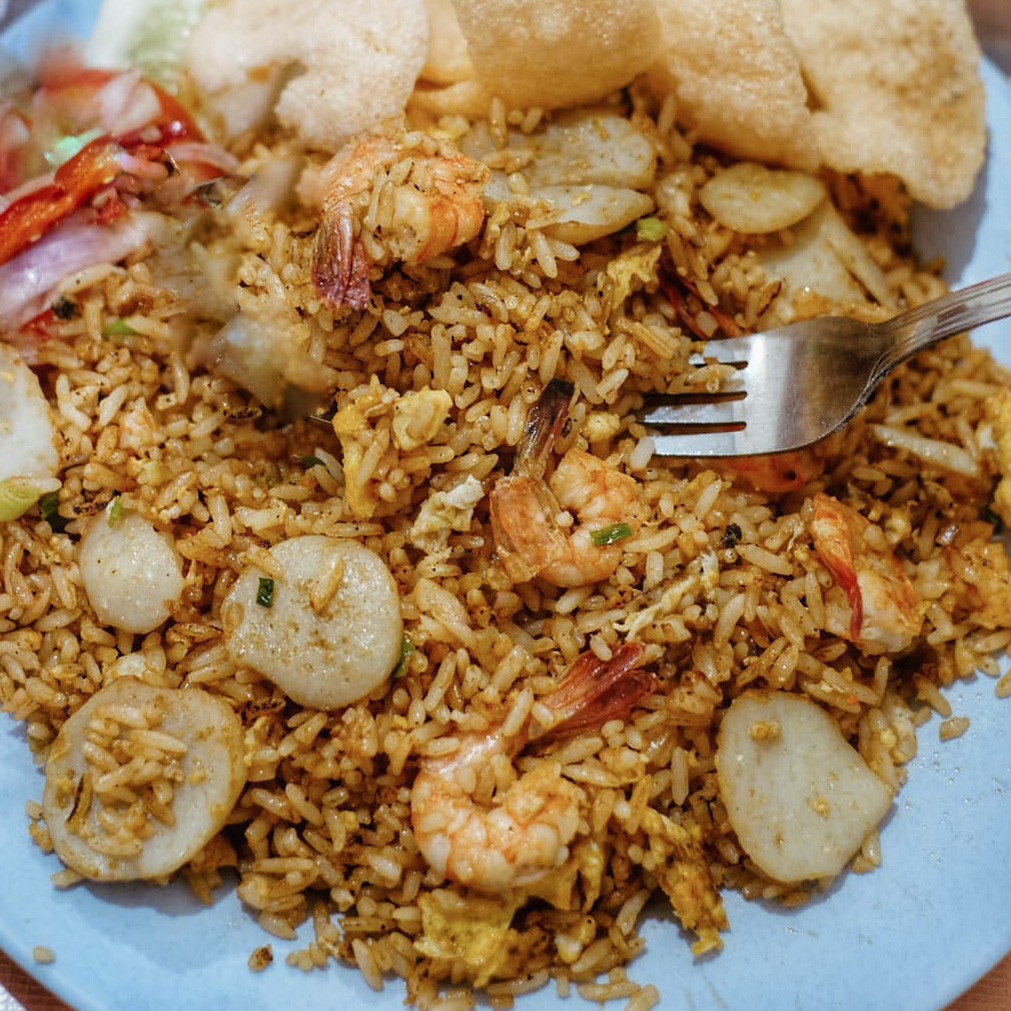Nasi goreng: (0, 241, 972, 976)
